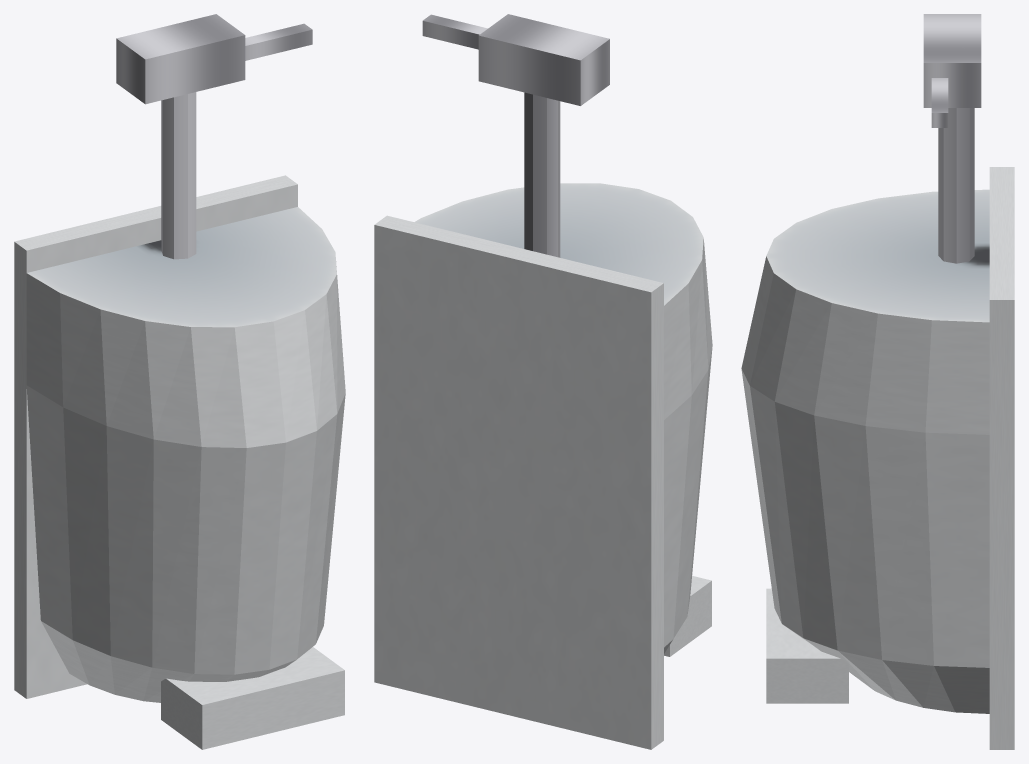
The model's file is urinal.obj.
The picture shows the model from 3 angles, left to right: view 1: azimuth 30°, elevation 25°; view 2: azimuth 150°, elevation 25°; view 3: azimuth 270°, elevation 25°; orthographic projection. The views are drawn at different scales.
Size of the model in its own units: 0.38 by 0.86 by 0.33.
Materials: 1 (1 with a texture image).
